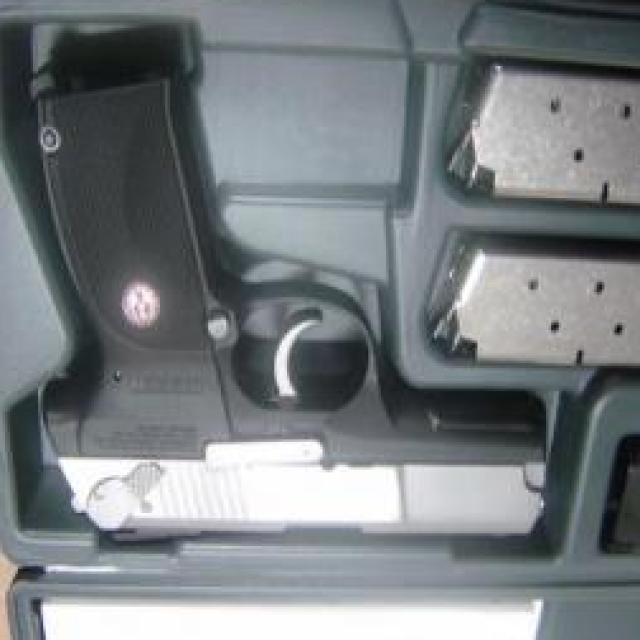pistol: (24, 60, 546, 551)
